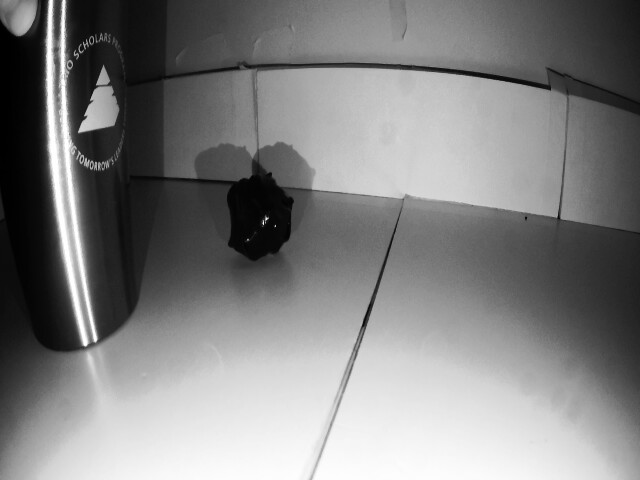silver: (222, 173, 293, 256)
